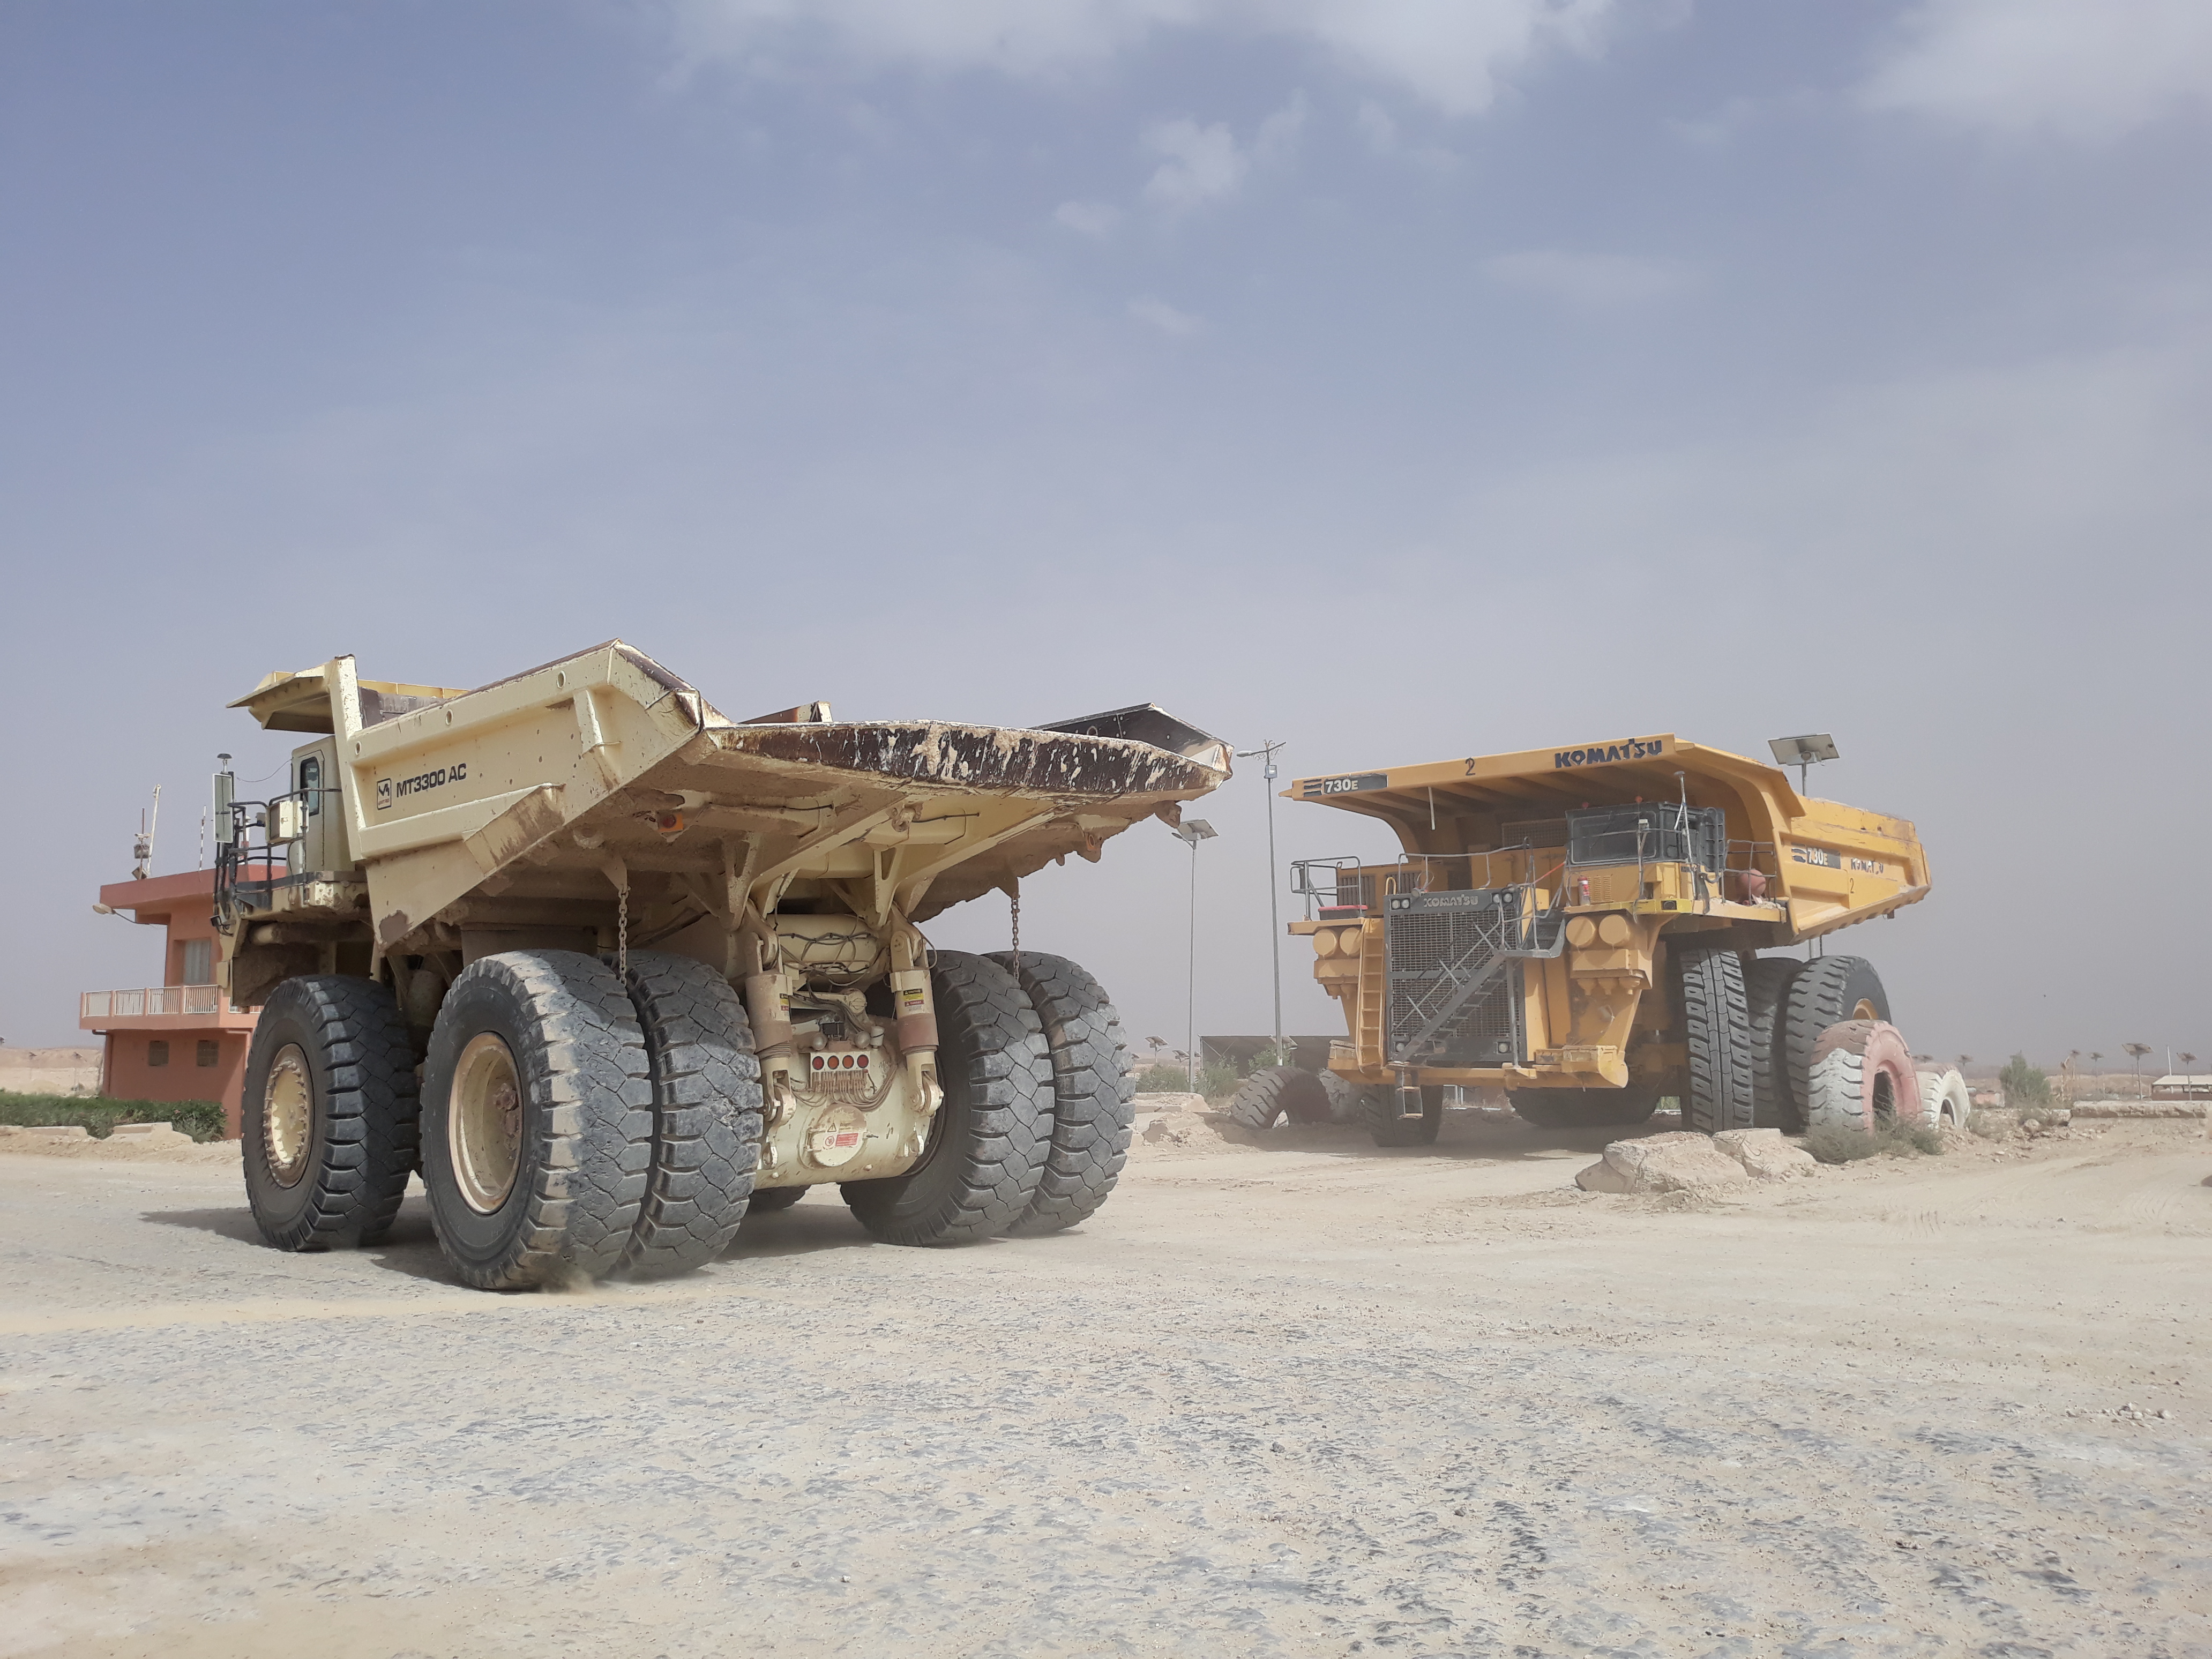camion: (174, 650, 1244, 1310), (1254, 728, 1958, 1185)
